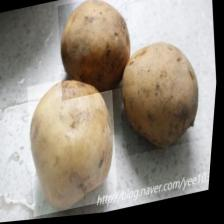Potato: (21, 70, 128, 219), (113, 35, 212, 160), (52, 0, 142, 103)
